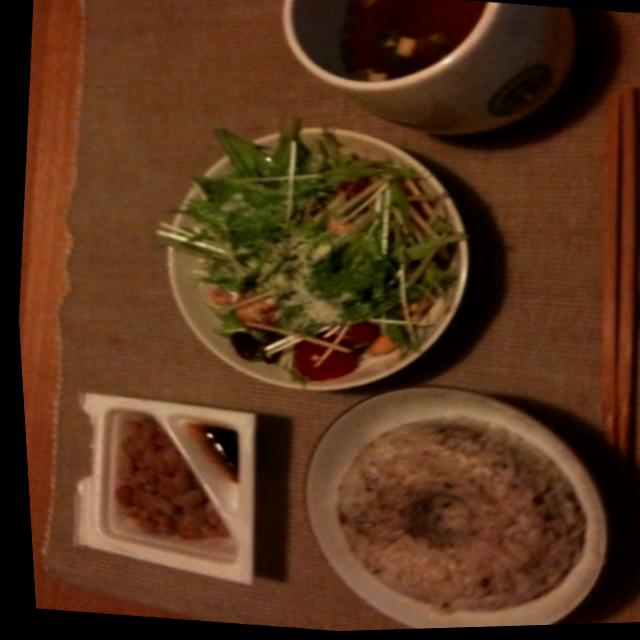蔬菜料理: (149, 108, 490, 409)
